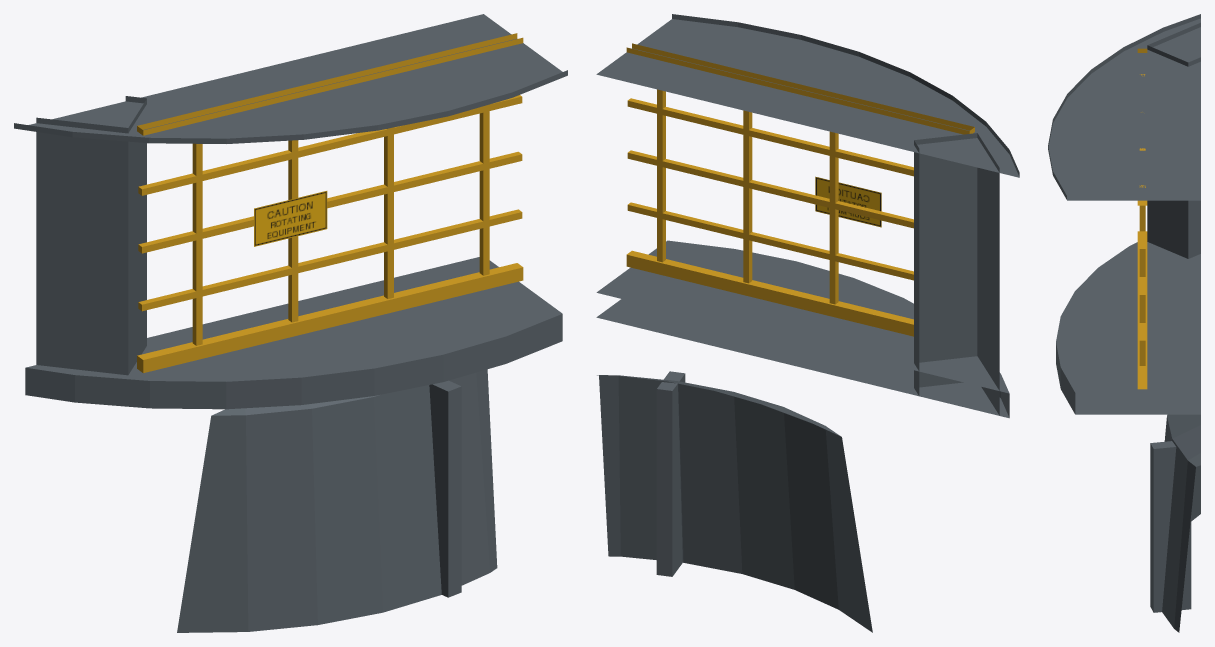
The model's file is cell_50.obj.
3 views of the same model, side by side, from view 1: azimuth 30°, elevation 25°; view 2: azimuth 150°, elevation 25°; view 3: azimuth 270°, elevation 25° (orthographic). The views are drawn at different scales.
Size of the model in its own units: 0.8941 by 1 by 0.317.
